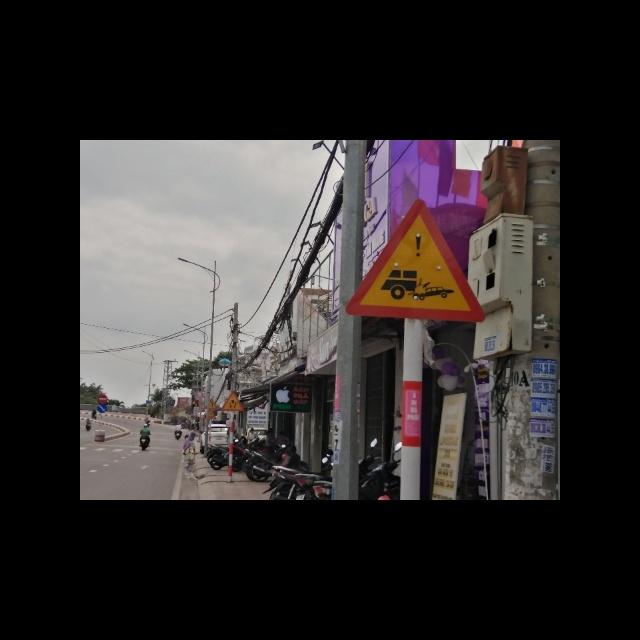Đoạn đường hay xảy ra tai nạn: (344, 203, 488, 325)
Đường đôi: (221, 389, 245, 411)
